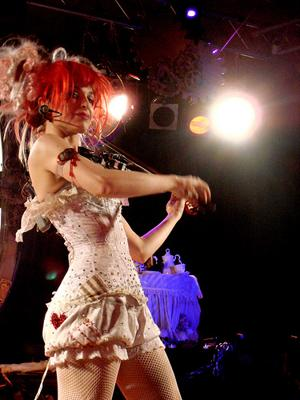person: (2, 39, 214, 400)
